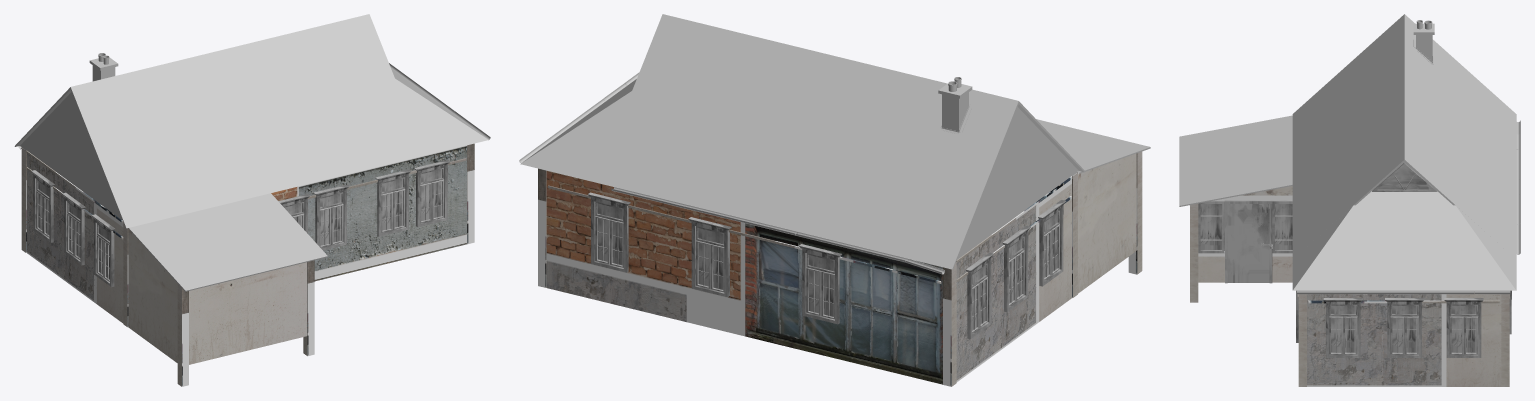
3 views of the same model, side by side, from view 1: azimuth 30°, elevation 25°; view 2: azimuth 150°, elevation 25°; view 3: azimuth 270°, elevation 25° (orthographic). The views are drawn at different scales.
Parts seen in each view (by area): view 1: roof, walls _walls_0, big window.010, big window.009, big window.011, big window.005, big window.003, big window.004, big window.012, chimney, drain pipe; view 2: roof, walls _walls_0, big window.007, big window.008, big window.006, drain pipe, big window.003, big window.005, big window.004, chimney; view 3: roof, walls _walls_0, door, big window.002, big window, big window.001, drain pipe, small window.002, small window, roof window, chimney.
Part boxes in pixels (bbox=[...]): roof: bbox=[14, 14, 488, 291]; walls _walls_0: bbox=[21, 143, 474, 386]; big window.010: bbox=[375, 169, 411, 236]; big window.009: bbox=[414, 160, 450, 227]; big window.011: bbox=[313, 184, 349, 250]; big window.005: bbox=[31, 170, 54, 242]; big window.003: bbox=[91, 214, 114, 286]; big window.004: bbox=[62, 192, 85, 265]; big window.012: bbox=[278, 194, 310, 233]; chimney: bbox=[89, 53, 118, 81]; drain pipe: bbox=[18, 63, 490, 149]; roof: bbox=[520, 14, 1150, 269]; walls _walls_0: bbox=[538, 151, 1142, 386]; big window.007: bbox=[688, 217, 731, 297]; big window.008: bbox=[799, 244, 842, 324]; big window.006: bbox=[587, 192, 630, 272]; drain pipe: bbox=[519, 72, 944, 274]; big window.003: bbox=[1038, 199, 1066, 286]; big window.005: bbox=[966, 252, 993, 339]; big window.004: bbox=[1002, 225, 1030, 312]; chimney: bbox=[938, 77, 972, 134]; roof: bbox=[1179, 14, 1516, 290]; walls _walls_0: bbox=[1190, 186, 1509, 386]; door: bbox=[1225, 200, 1272, 283]; big window.002: bbox=[1444, 298, 1483, 357]; big window: bbox=[1323, 298, 1362, 357]; big window.001: bbox=[1385, 298, 1424, 357]; drain pipe: bbox=[1297, 120, 1520, 294]; small window.002: bbox=[1198, 200, 1224, 253]; small window: bbox=[1272, 200, 1292, 253]; roof window: bbox=[1372, 163, 1437, 191]; chimney: bbox=[1413, 20, 1434, 64].
Size of what is drawn, in the model's own units: 5065 by 3121 by 4096.
